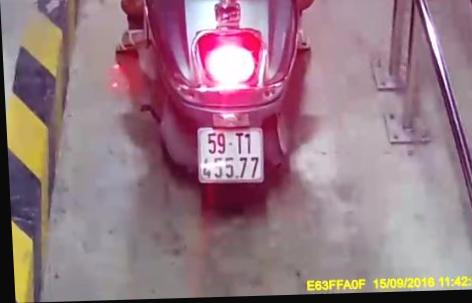License_Plate: (190, 120, 273, 187)
